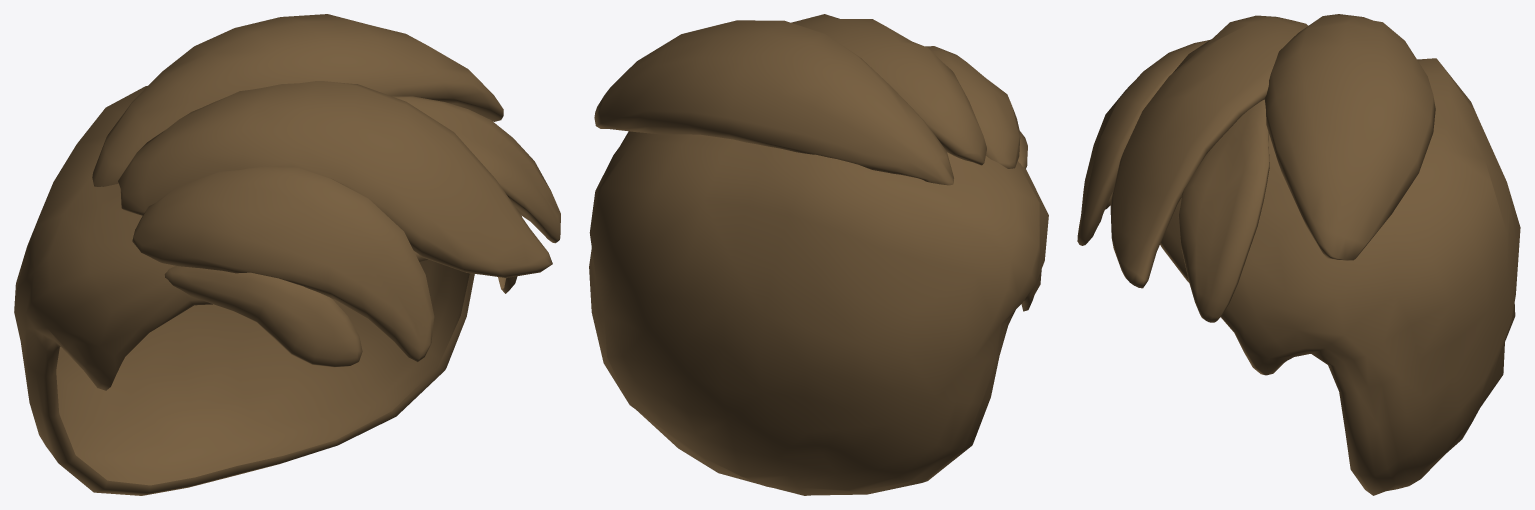
Rendered from hair1.fbx.
3 views of the same model, side by side, from view 1: azimuth 30°, elevation 25°; view 2: azimuth 150°, elevation 25°; view 3: azimuth 270°, elevation 25° (orthographic). The views are drawn at different scales.
Parts seen in each view (by area): view 1: hair_1:low_mess:ZBrush_defualt_group; view 2: hair_1:low_mess:ZBrush_defualt_group; view 3: hair_1:low_mess:ZBrush_defualt_group.
Part boxes in pixels (x1,y1,x2,y2): hair_1:low_mess:ZBrush_defualt_group: (14, 14, 560, 495); hair_1:low_mess:ZBrush_defualt_group: (589, 14, 1048, 495); hair_1:low_mess:ZBrush_defualt_group: (1077, 14, 1520, 495).
Bounding box in the file's own units: 0.9615 × 0.9017 × 0.8381.
